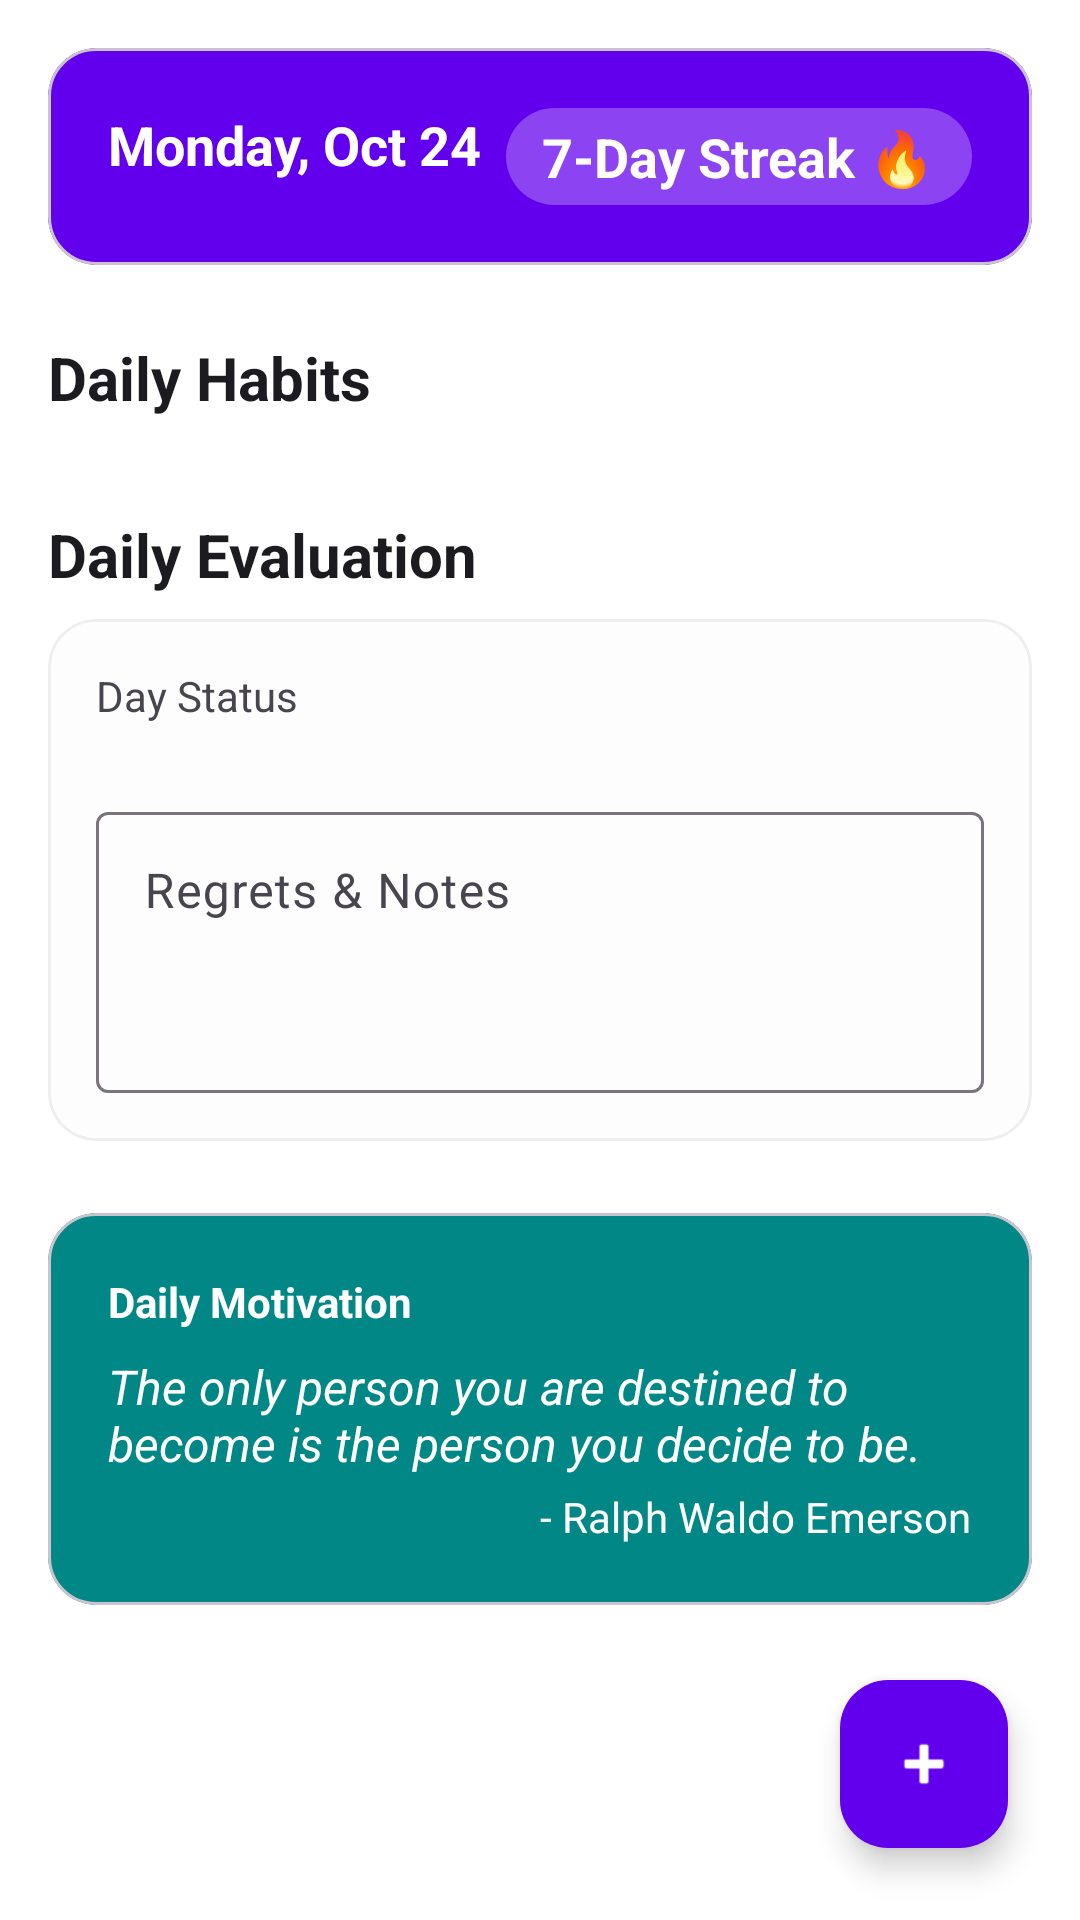

Icon bounding boxes for this 1080px×1920px phone screenshot, format [x1,y1,x2,y2]:
Add Habit: [840,1680,1008,1848]
